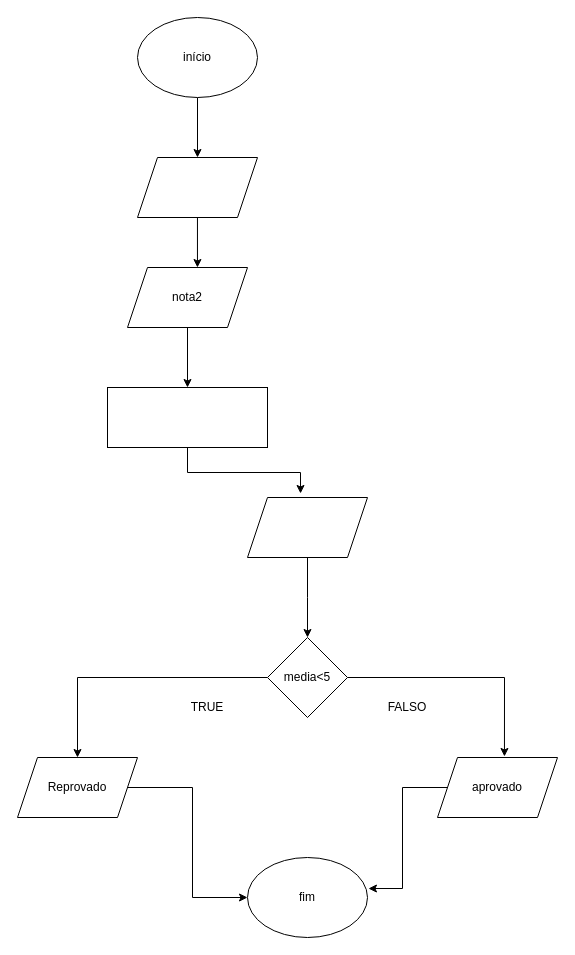
This 575x955 diagram has some shape labels left out. The shapes that lost their labels are listed below. From the top down, each one's centre as x and y in pixels, then its label:
(197,187): nota1
(187,417): media=(nota1+nota2)/2
(307,527): media
